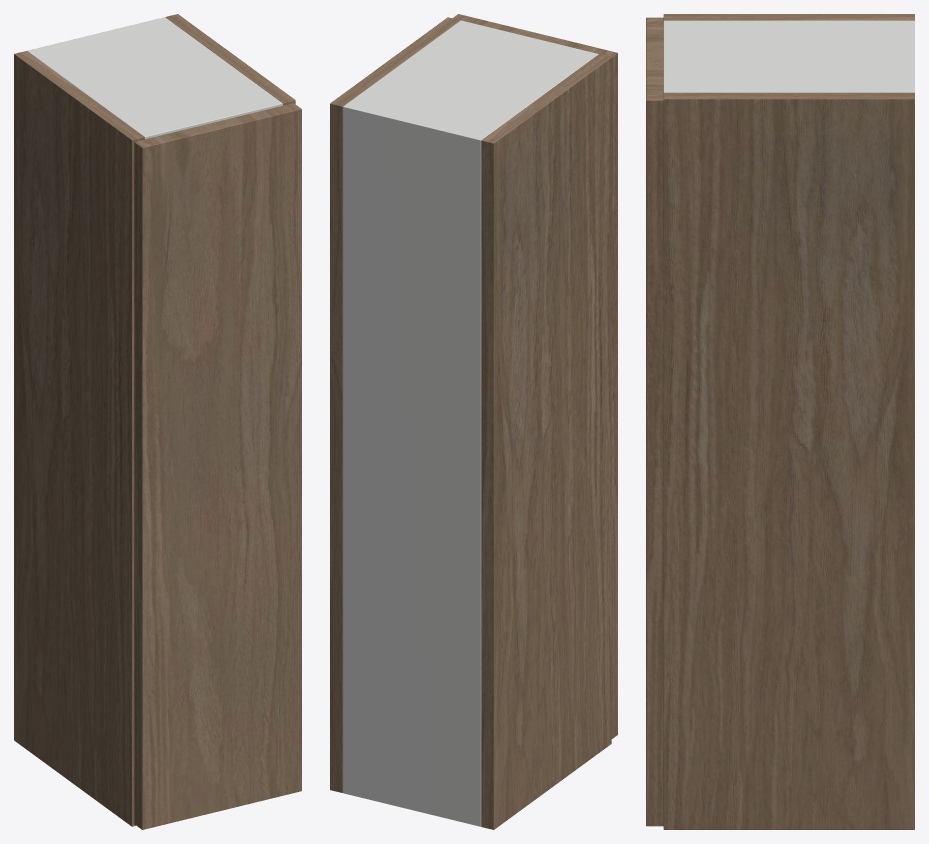
The model's file is oppein-pb-mnw-w0936.glb.
3 renders of one model, left to right at view 1: azimuth 30°, elevation 25°; view 2: azimuth 150°, elevation 25°; view 3: azimuth 270°, elevation 25°, orthographic. The views are drawn at different scales.
Visible parts, largest first — view 1: Door, Cabinet side, Cabinet top, Cabinet side.001, Cabinet back; view 2: Cabinet back, Cabinet side, Cabinet top, Cabinet side.001, Door; view 3: Cabinet side.001, Cabinet top, Door, Cabinet side, Cabinet back.
Boxes of the visible parts, bbox=[...] form: Door: bbox=[134, 103, 301, 829]; Cabinet side: bbox=[14, 51, 144, 826]; Cabinet top: bbox=[28, 20, 282, 139]; Cabinet side.001: bbox=[165, 14, 295, 105]; Cabinet back: bbox=[27, 17, 168, 53]; Cabinet back: bbox=[343, 103, 485, 826]; Cabinet side: bbox=[481, 54, 611, 829]; Cabinet top: bbox=[343, 20, 598, 151]; Cabinet side.001: bbox=[330, 17, 460, 792]; Door: bbox=[453, 14, 617, 738]; Cabinet side.001: bbox=[663, 92, 914, 829]; Cabinet top: bbox=[663, 20, 914, 92]; Door: bbox=[646, 17, 663, 826]; Cabinet side: bbox=[663, 14, 914, 20]; Cabinet back: bbox=[905, 20, 914, 92].
Bounding box in the file's own units: 0.2286 × 0.9144 × 0.3048.
2 materials, 1 textured.
